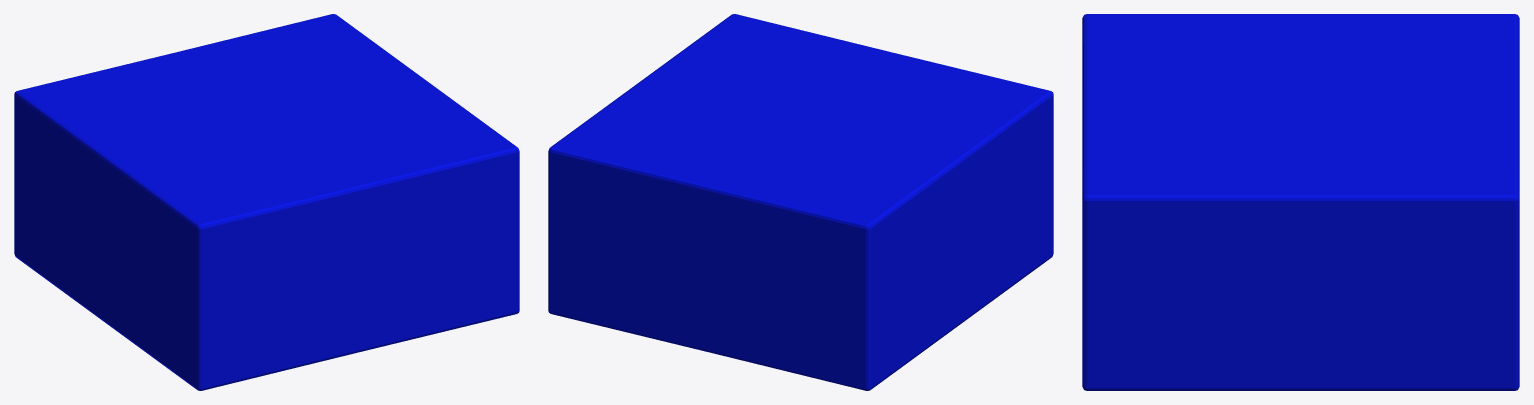
Rendered from 4_Obstaculos.fbx.
3 views of the same model, side by side, from view 1: azimuth 30°, elevation 25°; view 2: azimuth 150°, elevation 25°; view 3: azimuth 270°, elevation 25° (orthographic). The views are drawn at different scales.
Visible parts, largest first — view 1: Cube.009; view 2: Cube.009; view 3: Cube.009.
Part boxes in pixels (x1=…): Cube.009: x1=14, y1=14, x2=519, y2=390; Cube.009: x1=548, y1=14, x2=1053, y2=390; Cube.009: x1=1082, y1=14, x2=1519, y2=390.
Bounding box in the file's own units: 606 × 299 × 606.
